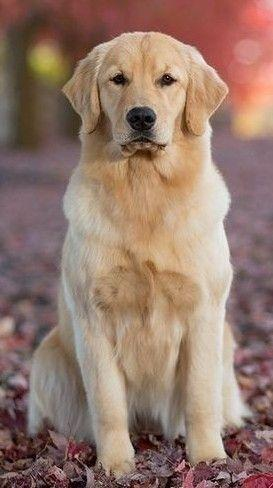adult_dog: (20, 30, 254, 476)
